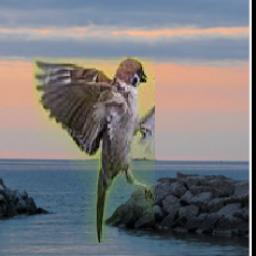Sparrow: (32, 57, 155, 243)
